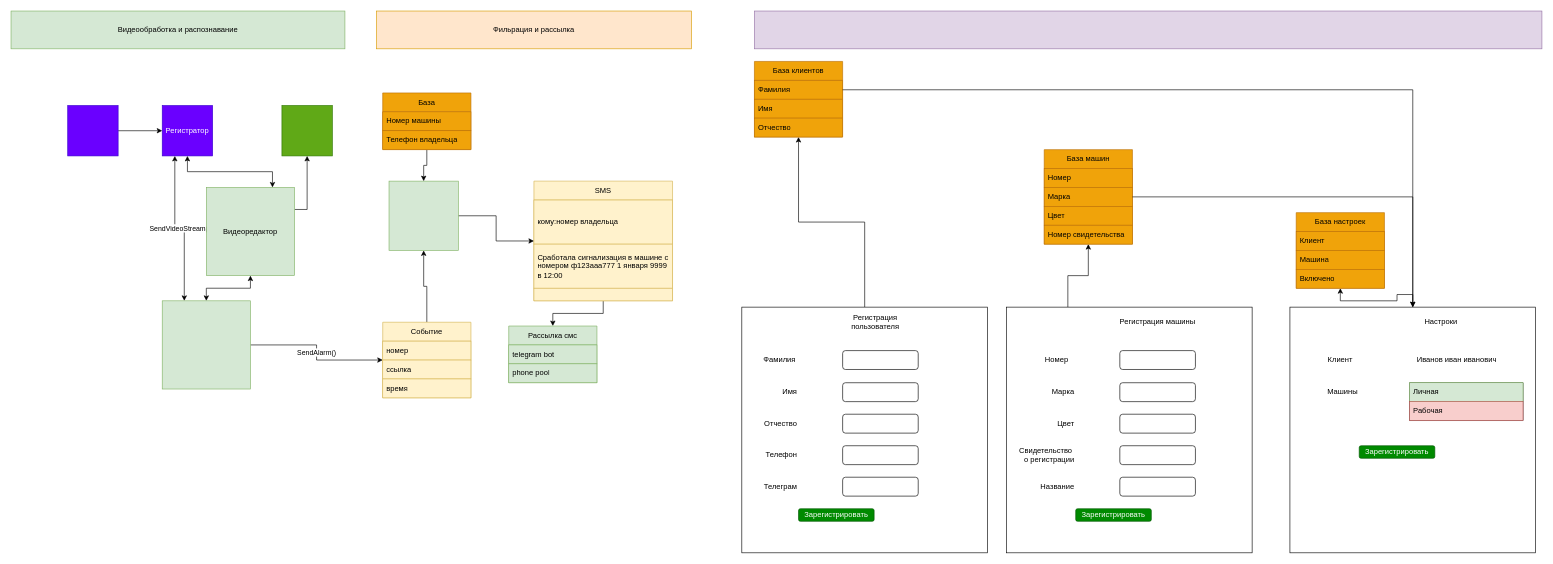
This 1553x564 diagram has some shape labels left out. The shapes that lost their labels are listed below. From the top down, each one's centre as x and y in pixels, then its label:
point 1148,29: Настройки
point 92,130: IP камера
point 306,130: Хранилище видео фрагментов
point 423,215: Формирователь сообщений
point 603,294: Видео:http://domain/video/id
point 206,344: Распознаватель
